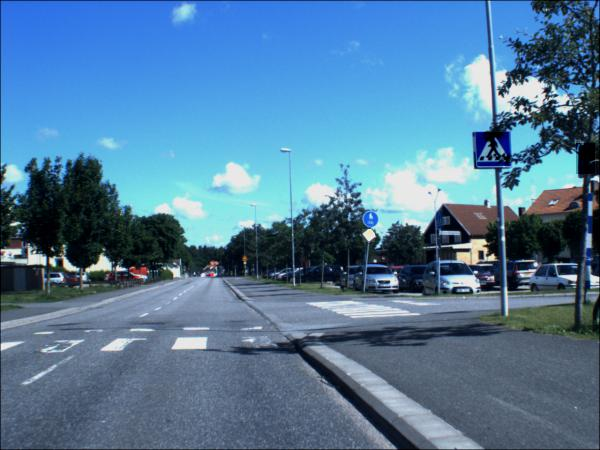PEDESTRIAN_CROSSING: (477, 133, 513, 168), (577, 144, 597, 176), (437, 211, 445, 230)
PRIORITY_ROAD: (364, 231, 378, 245), (245, 263, 248, 266)
WARNING: (243, 256, 249, 261)
